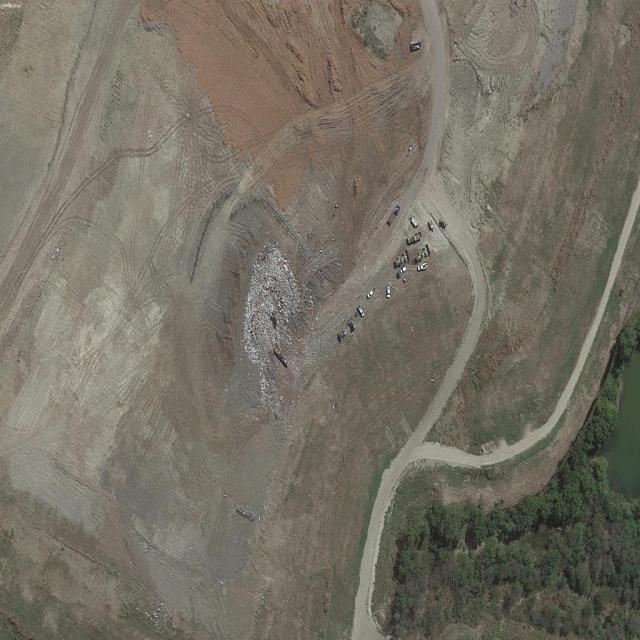dump_site: (217, 234, 314, 408)
